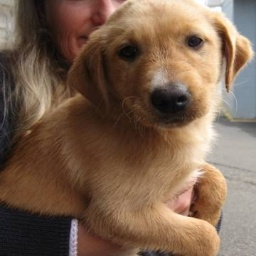dog: (14, 0, 244, 246)
